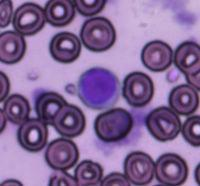L: (77, 66, 121, 110)
